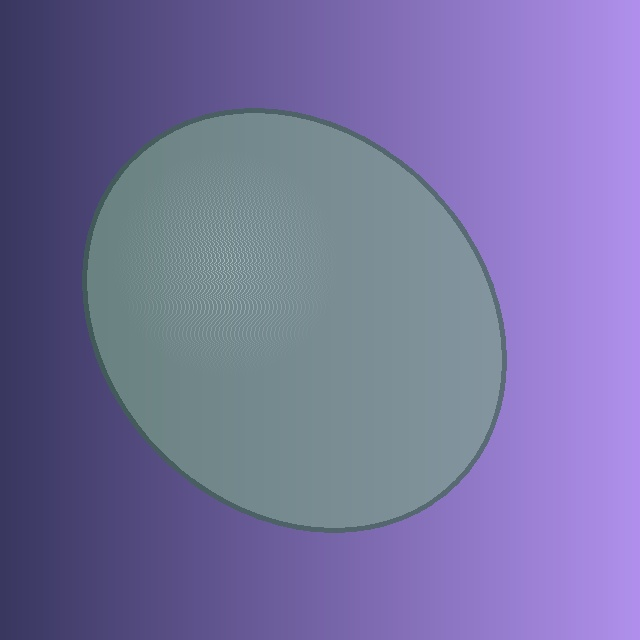lens: (85, 111, 503, 529)
